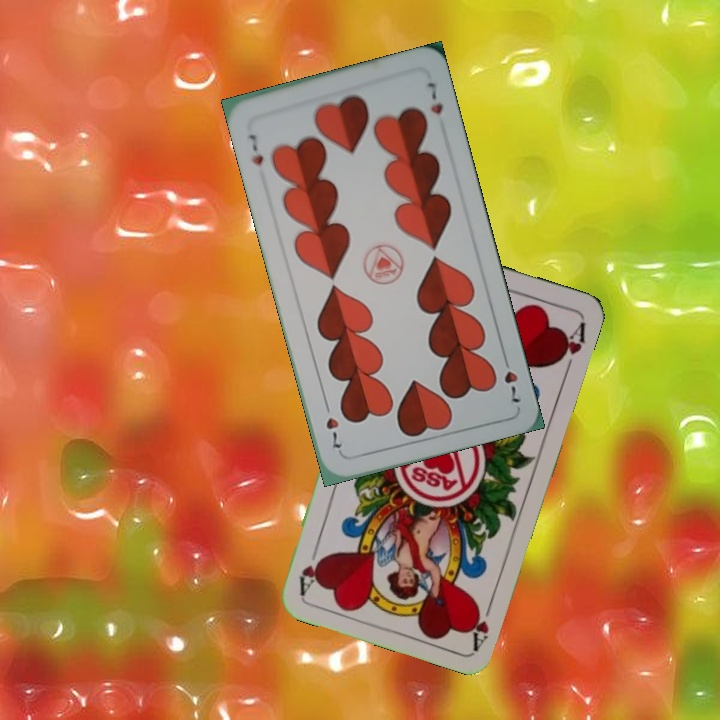H7: (498, 350, 523, 406), (244, 130, 266, 168)
HA: (466, 593, 496, 651)
